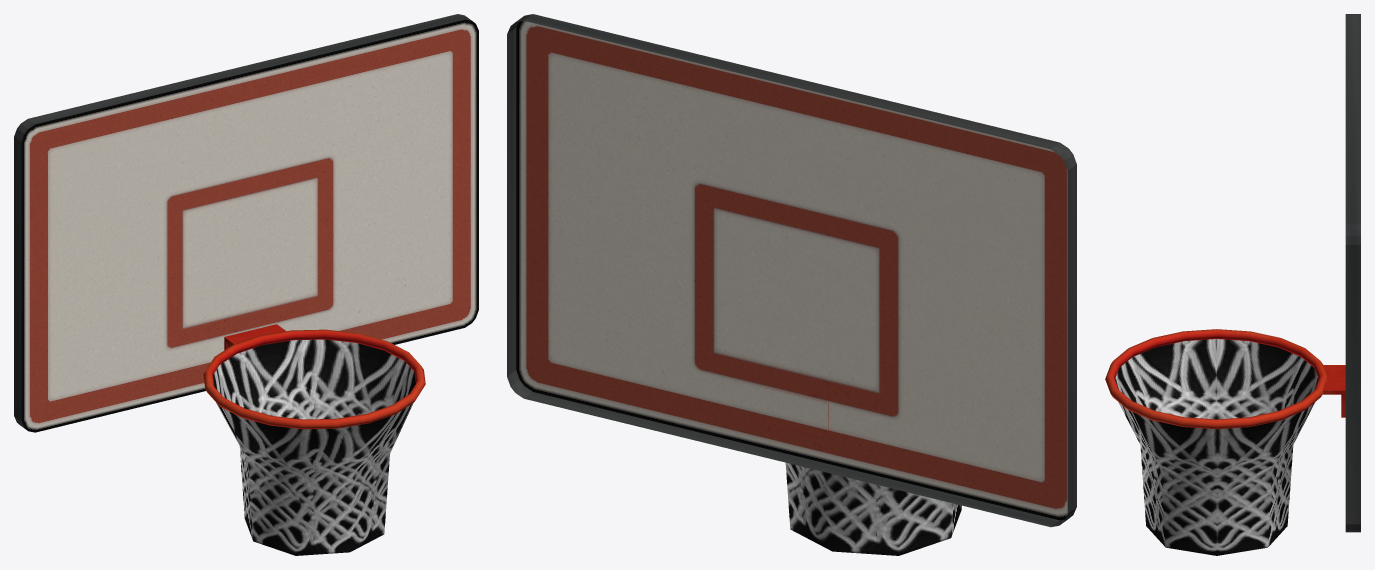
File: Hoop.FBX
The picture shows the model from 3 angles, left to right: view 1: azimuth 30°, elevation 25°; view 2: azimuth 150°, elevation 25°; view 3: azimuth 270°, elevation 25°; orthographic projection. The views are drawn at different scales.
Visible parts, largest first — view 1: Hoop; view 2: Hoop; view 3: Hoop.
Boxes of the visible parts, left/top/right/bottom form: Hoop: left=14, top=14, right=478, bottom=555; Hoop: left=507, top=14, right=1076, bottom=555; Hoop: left=1105, top=14, right=1360, bottom=555.
Bounding box in the file's own units: 148 × 126 × 71.82.
